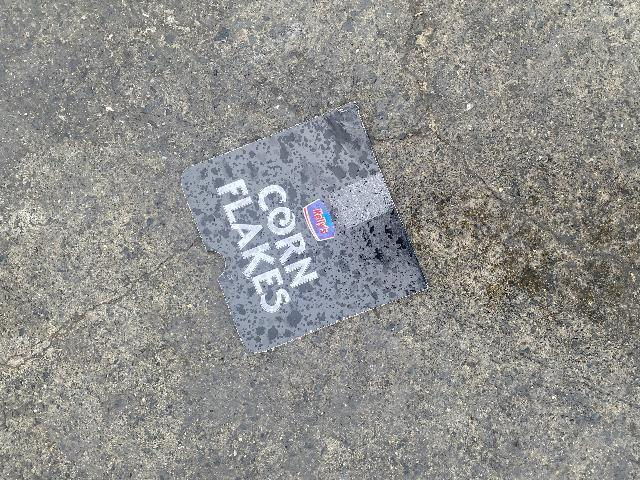Kagit: (160, 98, 432, 351)
